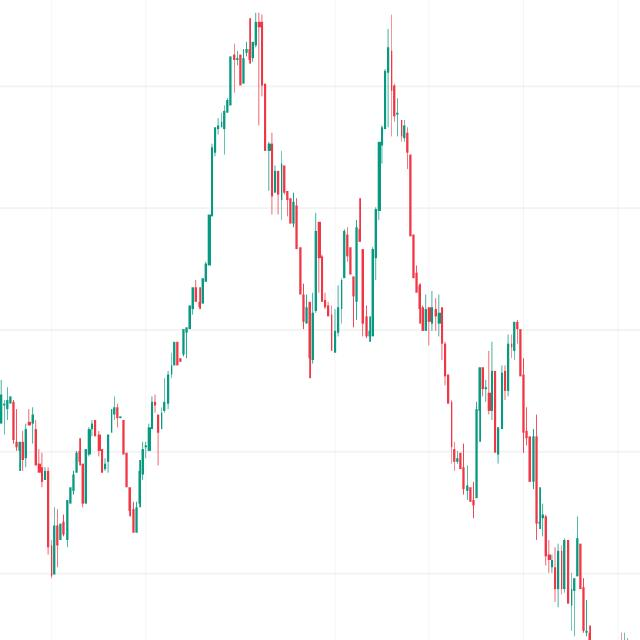Triple-Bottom: (286, 202, 387, 373)
